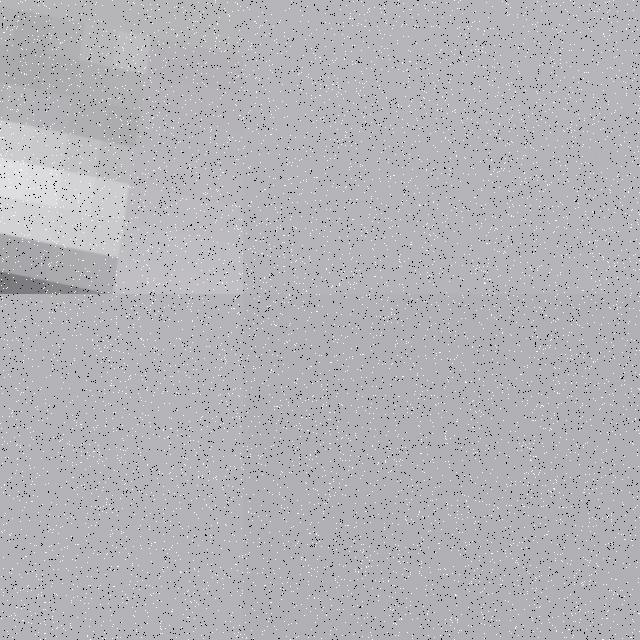drone: (0, 0, 243, 294)
